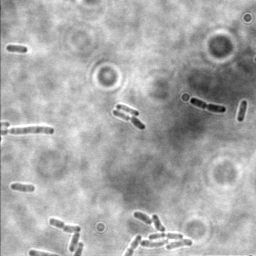Dividing: (111, 109, 147, 131), (189, 97, 228, 114), (48, 217, 82, 235)
Microcolony: (123, 209, 193, 255)
Rod: (7, 125, 56, 137), (115, 102, 140, 118), (236, 98, 249, 124), (9, 182, 36, 194), (67, 230, 81, 252), (5, 43, 28, 55)
